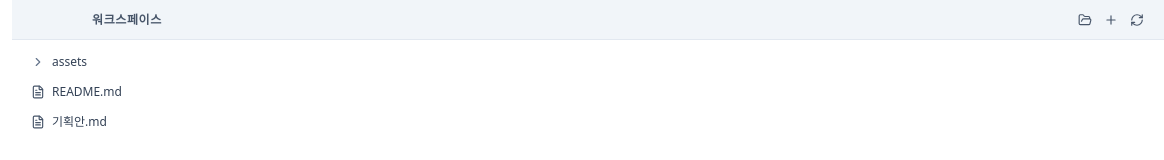
파일(디렉터리 아님) 우클릭 메뉴는 "이름 변경"/"삭제"만 보여주고 "새 문서"류는 숨긴다
Right-click the text "README.md" at point(87, 92), box [52,83,122,100]
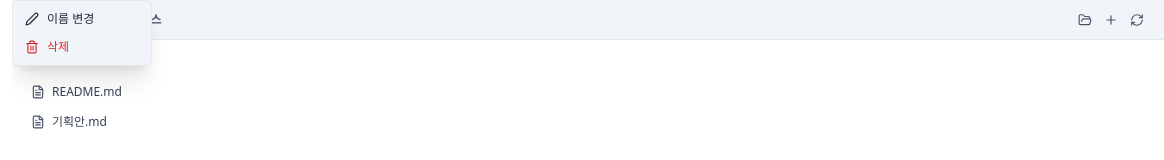
Check: the text "이름 변경" is shown, box [47,11,94,27]
Check: the text "삭제" is shown, box [47,39,69,55]
